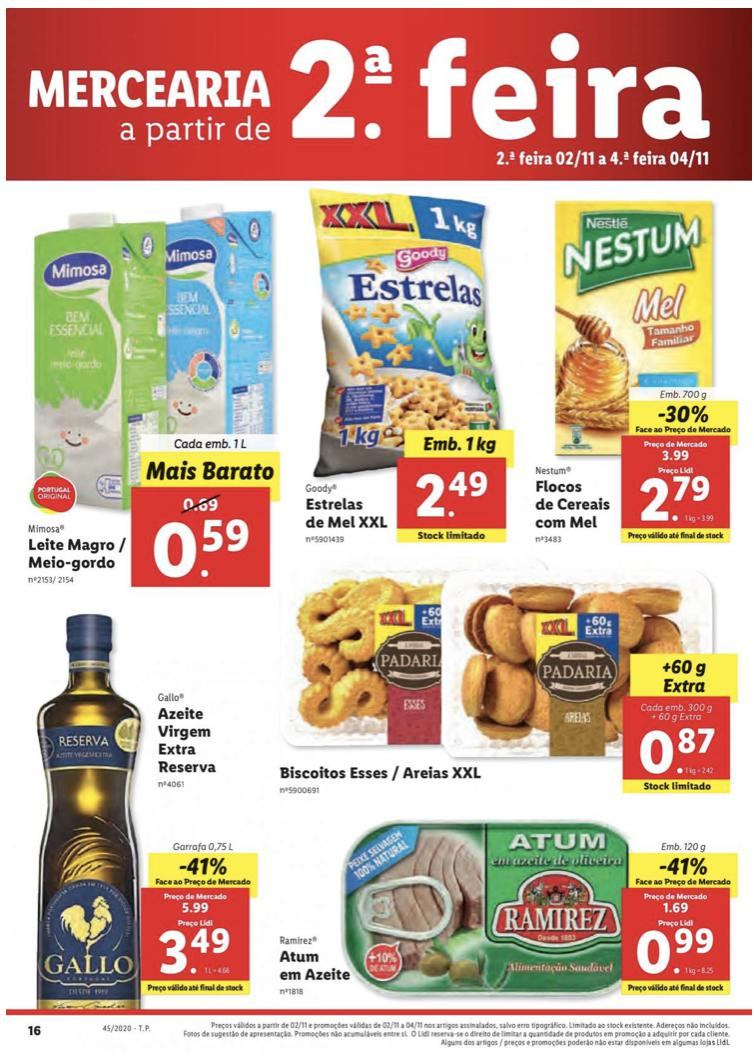name: (277, 761, 487, 788), (150, 705, 223, 780), (529, 477, 614, 531), (24, 536, 129, 573), (303, 496, 392, 531), (275, 950, 357, 982)
price: (146, 513, 256, 582), (156, 927, 240, 981), (637, 467, 717, 523), (414, 469, 496, 522), (636, 925, 719, 976), (637, 726, 716, 776)
product: (270, 559, 737, 801), (16, 196, 291, 597), (16, 597, 258, 1002), (270, 806, 744, 1006), (296, 188, 516, 555), (517, 193, 742, 550)
promotion: (656, 852, 712, 880), (654, 404, 710, 426), (175, 855, 227, 877)
